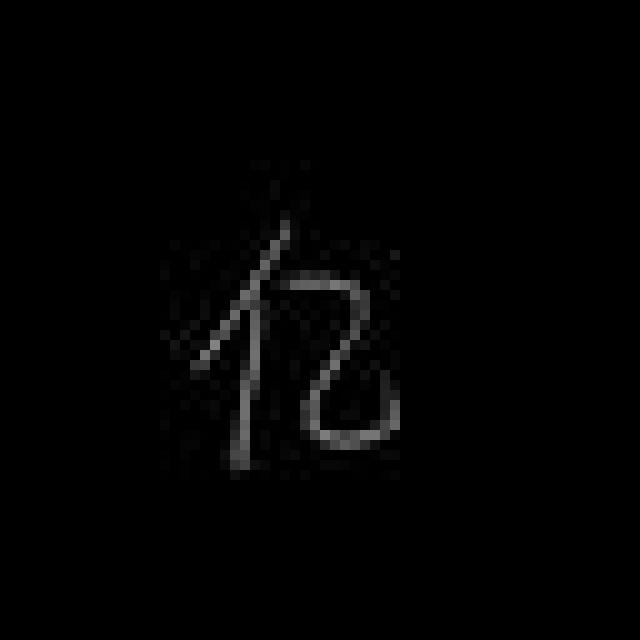100000 -a hundred thousand-: (178, 208, 412, 480)
